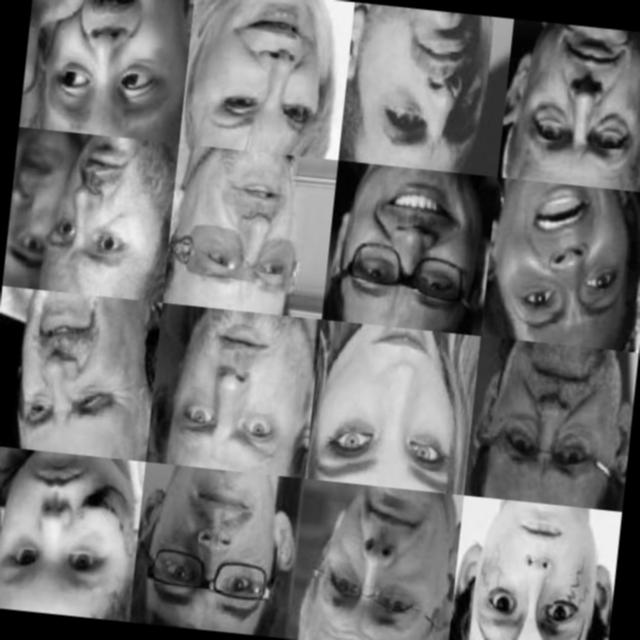fear: (18, 135, 171, 285), (166, 320, 314, 466), (517, 190, 640, 335), (42, 0, 176, 129)
happy: (318, 343, 474, 496), (344, 173, 485, 314), (192, 4, 326, 152), (15, 298, 146, 449)
neutral: (151, 467, 301, 622), (304, 491, 457, 640), (0, 449, 141, 608), (369, 7, 511, 163), (496, 347, 638, 497), (180, 162, 319, 308), (467, 514, 610, 640), (532, 30, 640, 170)
